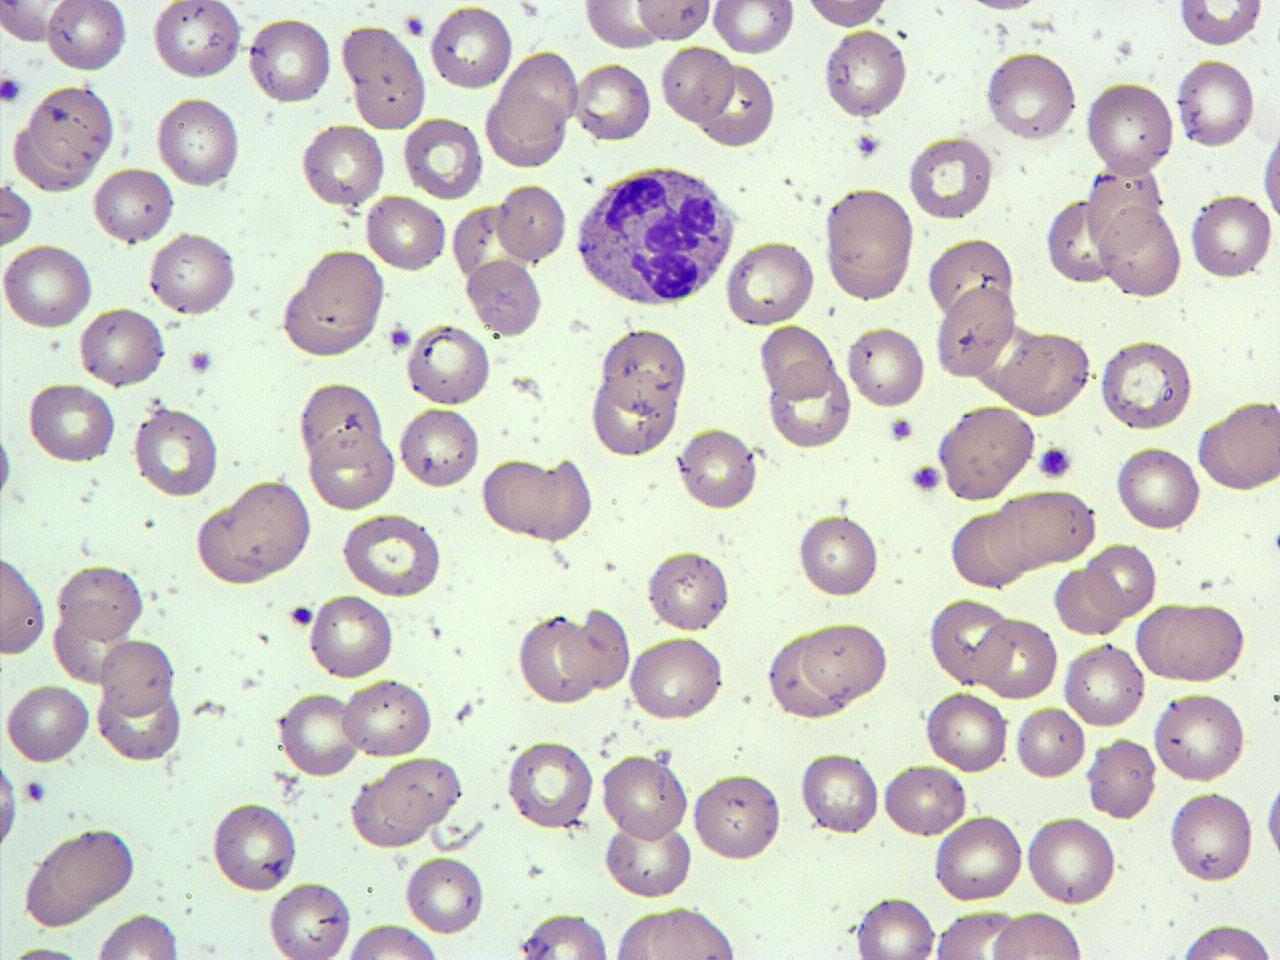Platelets: (1035, 444, 1073, 482), (11, 940, 80, 960), (908, 462, 946, 495), (852, 130, 884, 160), (186, 347, 215, 376), (389, 324, 416, 354), (0, 74, 23, 107), (887, 416, 914, 444), (289, 604, 317, 628), (404, 13, 427, 38), (1269, 526, 1280, 560)
RBC: (823, 184, 917, 303), (934, 404, 1038, 502), (486, 452, 592, 546), (1095, 338, 1197, 434), (340, 22, 430, 129), (1082, 78, 1176, 179), (982, 49, 1080, 145), (1150, 690, 1248, 785), (339, 511, 443, 598), (209, 798, 301, 894), (994, 329, 1094, 417), (1024, 814, 1118, 908), (1166, 788, 1256, 885), (627, 632, 725, 722), (598, 324, 690, 417), (690, 771, 785, 863), (723, 237, 818, 328), (130, 404, 221, 500), (598, 750, 691, 842), (506, 737, 597, 831), (930, 813, 1024, 903), (0, 242, 94, 332), (145, 230, 241, 318), (228, 477, 313, 575), (28, 83, 119, 174), (245, 14, 335, 107), (155, 94, 244, 188), (338, 676, 436, 759), (1112, 442, 1202, 532), (297, 379, 385, 473), (822, 27, 910, 121), (923, 234, 1018, 321), (1097, 205, 1183, 299), (904, 132, 994, 223), (587, 371, 679, 459), (2, 680, 93, 768), (1187, 190, 1275, 281), (1173, 55, 1257, 151), (307, 590, 396, 680), (77, 303, 168, 389), (427, 2, 514, 94), (1152, 601, 1248, 684), (306, 428, 398, 513), (932, 286, 1017, 379), (24, 382, 118, 466), (606, 902, 740, 960), (149, 0, 245, 82), (1003, 486, 1101, 565), (1060, 638, 1146, 728), (800, 618, 890, 704), (396, 402, 482, 492), (844, 322, 928, 412), (644, 548, 732, 634), (924, 688, 1010, 776), (300, 121, 386, 210), (516, 612, 596, 707), (277, 690, 361, 779), (798, 748, 882, 838), (928, 595, 1010, 687), (766, 628, 846, 722), (974, 615, 1059, 702), (676, 424, 760, 512), (796, 511, 880, 600), (404, 323, 494, 405), (499, 48, 581, 139), (54, 562, 146, 642), (766, 362, 850, 450), (265, 876, 353, 960), (93, 685, 185, 763), (191, 500, 277, 585), (880, 760, 970, 841), (47, 826, 138, 906), (602, 822, 694, 899), (402, 852, 487, 936), (303, 248, 386, 334), (699, 61, 777, 151), (89, 164, 176, 244), (348, 770, 431, 852), (402, 116, 484, 200), (364, 192, 447, 273), (1043, 194, 1117, 286), (486, 90, 570, 169), (574, 59, 654, 144), (658, 42, 738, 126), (948, 508, 1027, 592), (379, 754, 465, 830), (43, 0, 129, 76), (99, 636, 177, 718), (465, 256, 543, 338), (494, 179, 570, 263), (1086, 734, 1158, 822), (1212, 398, 1280, 491), (757, 322, 837, 400), (1012, 702, 1089, 782), (1085, 539, 1159, 620), (854, 892, 938, 960), (1051, 562, 1125, 638), (0, 551, 50, 659), (570, 606, 632, 694), (710, 0, 796, 57), (990, 908, 1089, 958), (512, 910, 612, 959), (934, 907, 1025, 960), (1176, 0, 1264, 50), (93, 910, 182, 958), (582, 0, 662, 52), (1172, 922, 1278, 958), (342, 922, 444, 958), (633, 0, 713, 43), (0, 0, 73, 47), (801, 0, 891, 31), (0, 176, 36, 251), (1258, 118, 1280, 240)
WBC: (568, 160, 742, 311)
